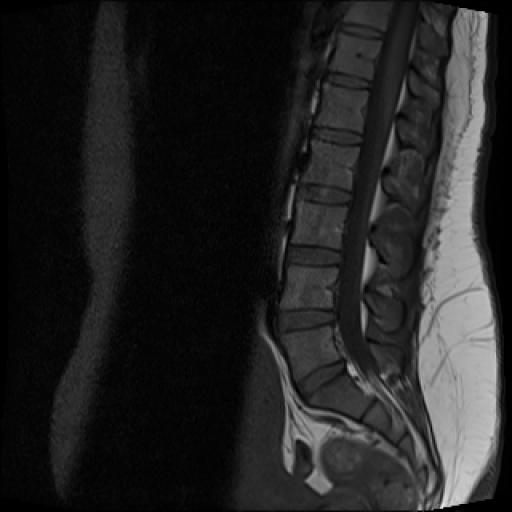L1: (315, 82, 369, 134)
L2: (303, 139, 360, 190)
L3: (290, 200, 347, 250)
L4: (280, 265, 338, 310)
L5: (279, 326, 340, 379)
S1: (307, 372, 372, 420)
